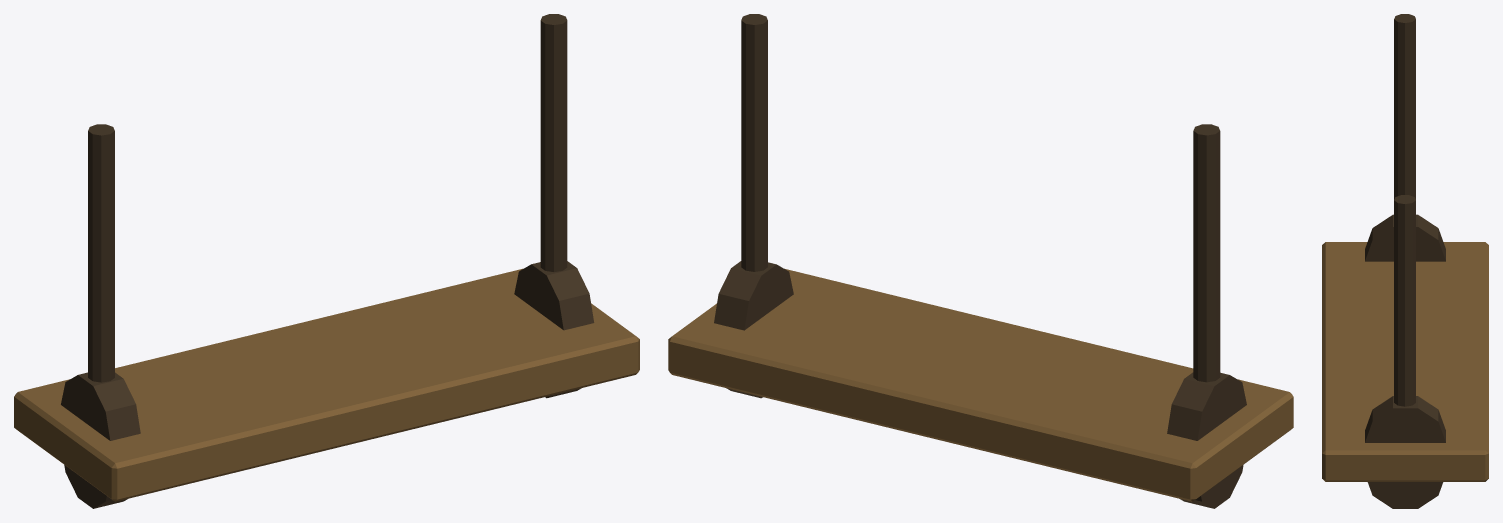
The model's file is Platform_Ladder_Small.fbx.
The picture shows the model from 3 angles, left to right: view 1: azimuth 30°, elevation 25°; view 2: azimuth 150°, elevation 25°; view 3: azimuth 270°, elevation 25°; orthographic projection. The views are drawn at different scales.
Parts seen in each view (by area): view 1: Platform_Ladder_Small; view 2: Platform_Ladder_Small; view 3: Platform_Ladder_Small.
Boxes of the visible parts, bbox=[...] form: Platform_Ladder_Small: bbox=[14, 14, 639, 508]; Platform_Ladder_Small: bbox=[668, 14, 1293, 508]; Platform_Ladder_Small: bbox=[1322, 14, 1488, 508].
Bounding box in the file's own units: 60 × 40.14 × 20.
